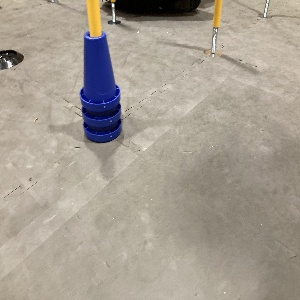Blue_3: (75, 30, 125, 146)
